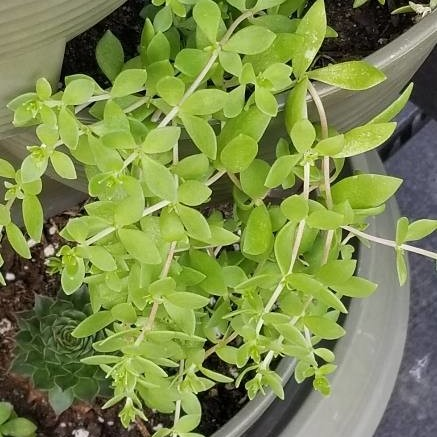obstacle: (53, 25, 362, 410)
